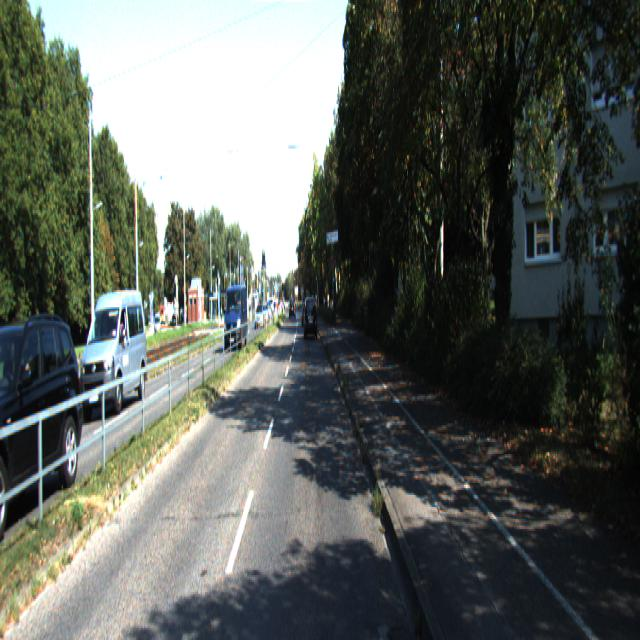Car: (0, 312, 87, 543), (81, 286, 148, 415), (224, 285, 247, 355), (304, 297, 318, 341)
